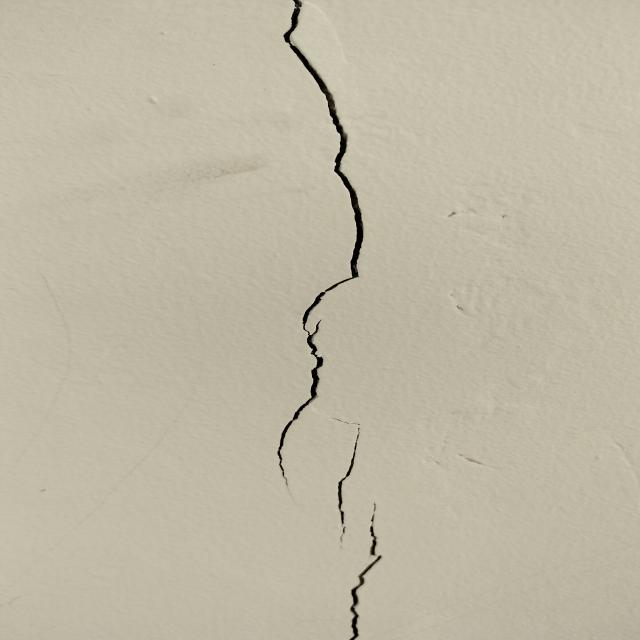Crack: (266, 1, 367, 414)
